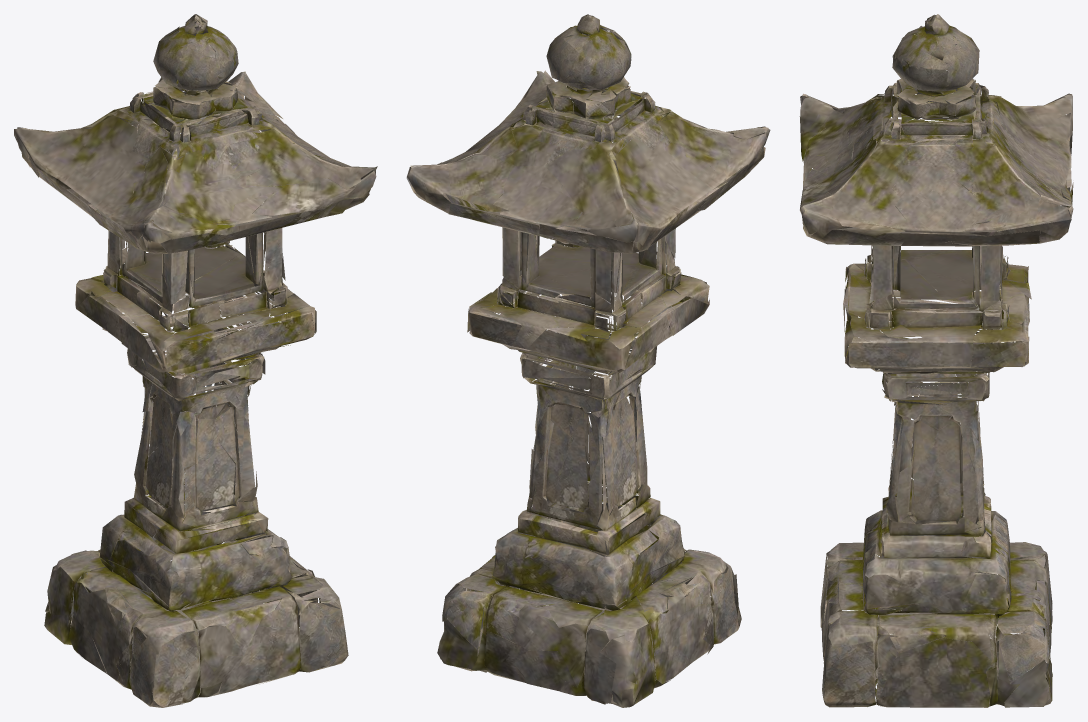
File: H_stone_lantern.glb
3 views of the same model, side by side, from view 1: azimuth 30°, elevation 25°; view 2: azimuth 150°, elevation 25°; view 3: azimuth 270°, elevation 25° (orthographic). The views are drawn at different scales.
Visible parts, largest first — view 1: H_stone_lantern; view 2: H_stone_lantern; view 3: H_stone_lantern.
Boxes of the visible parts, x1,y1,x2,y2 form: H_stone_lantern: [14, 14, 377, 707]; H_stone_lantern: [406, 14, 770, 707]; H_stone_lantern: [799, 14, 1073, 707].
Size of the model in its own units: 0.6225 by 1.61 by 0.6155.
1 material, 1 textured.
